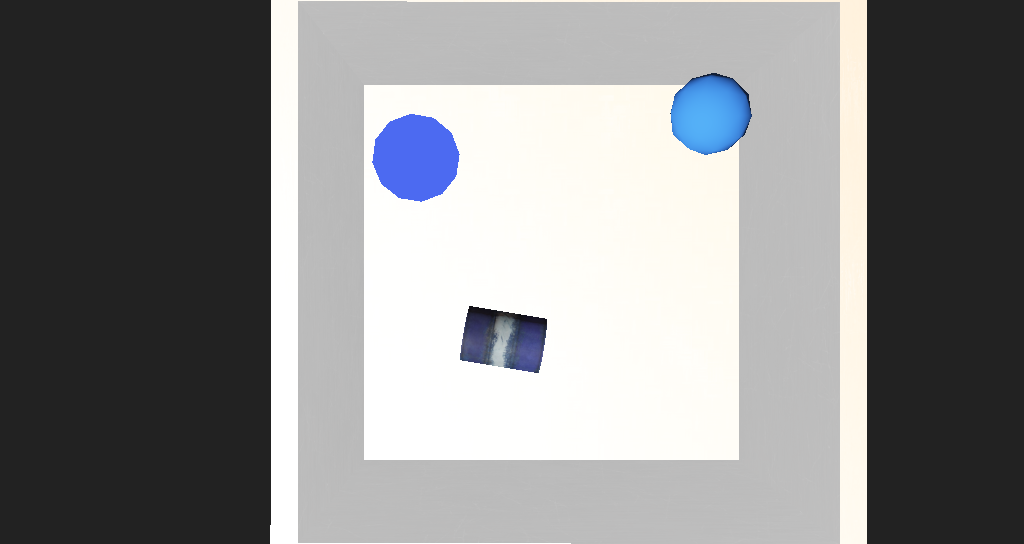cone: (431, 286, 499, 324)
cylinder: (354, 174, 441, 236)
sphere: (603, 160, 664, 203)
